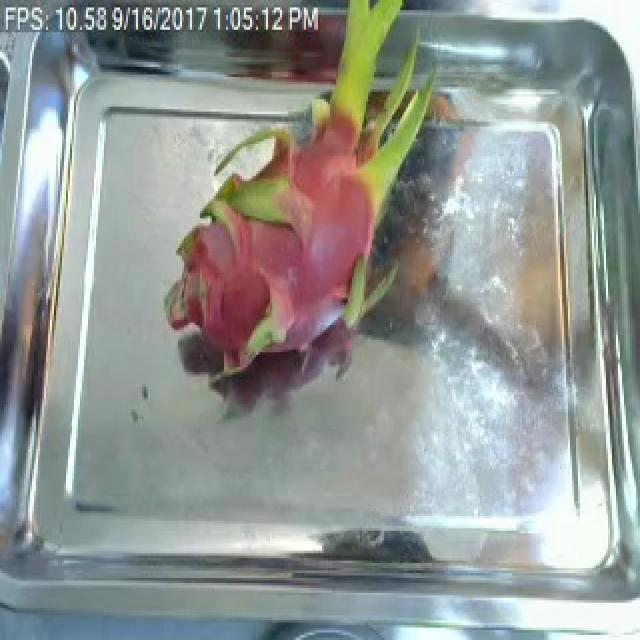fruit: (136, 5, 452, 387)
